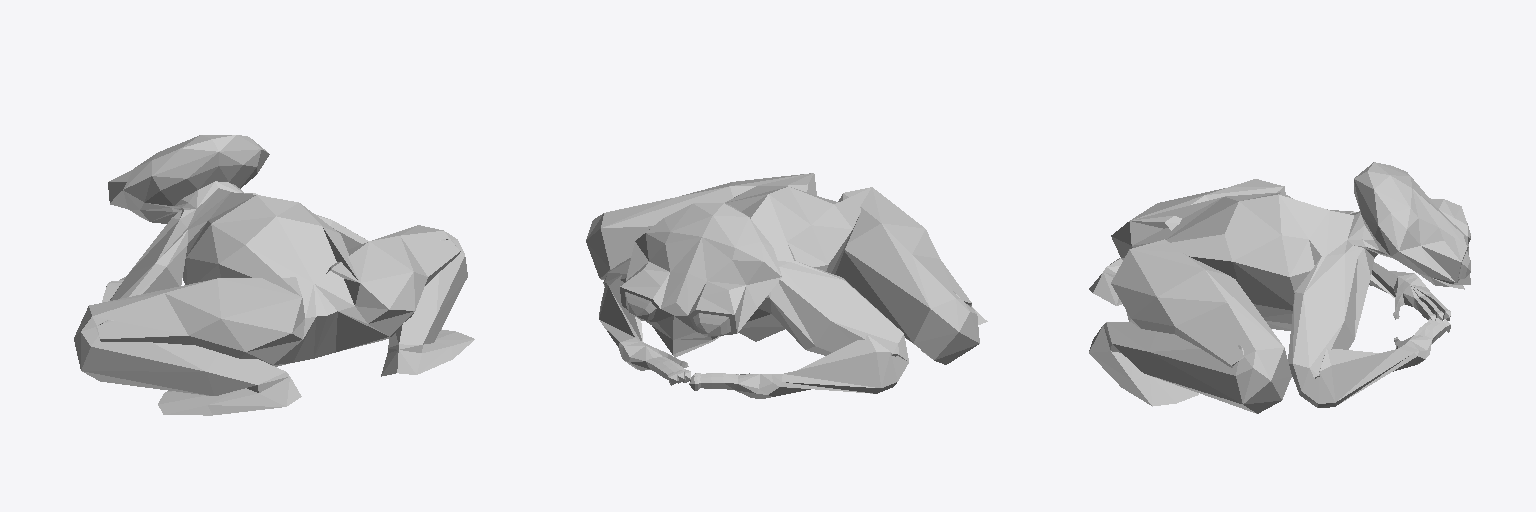
Rendered from frogsquat.obj.
The picture shows the model from 3 angles: view 1: azimuth 30°, elevation 25°; view 2: azimuth 150°, elevation 25°; view 3: azimuth 270°, elevation 25°; orthographic projection.
Visible parts, largest first — view 1: Frog; view 2: Frog; view 3: Frog.
Boxes of the visible parts, <box> form: Frog: <box>74,135,474,415</box>; Frog: <box>586,173,987,398</box>; Frog: <box>1089,162,1470,413</box>.
Size of the model in its own units: 1.11 by 0.4639 by 0.9493.